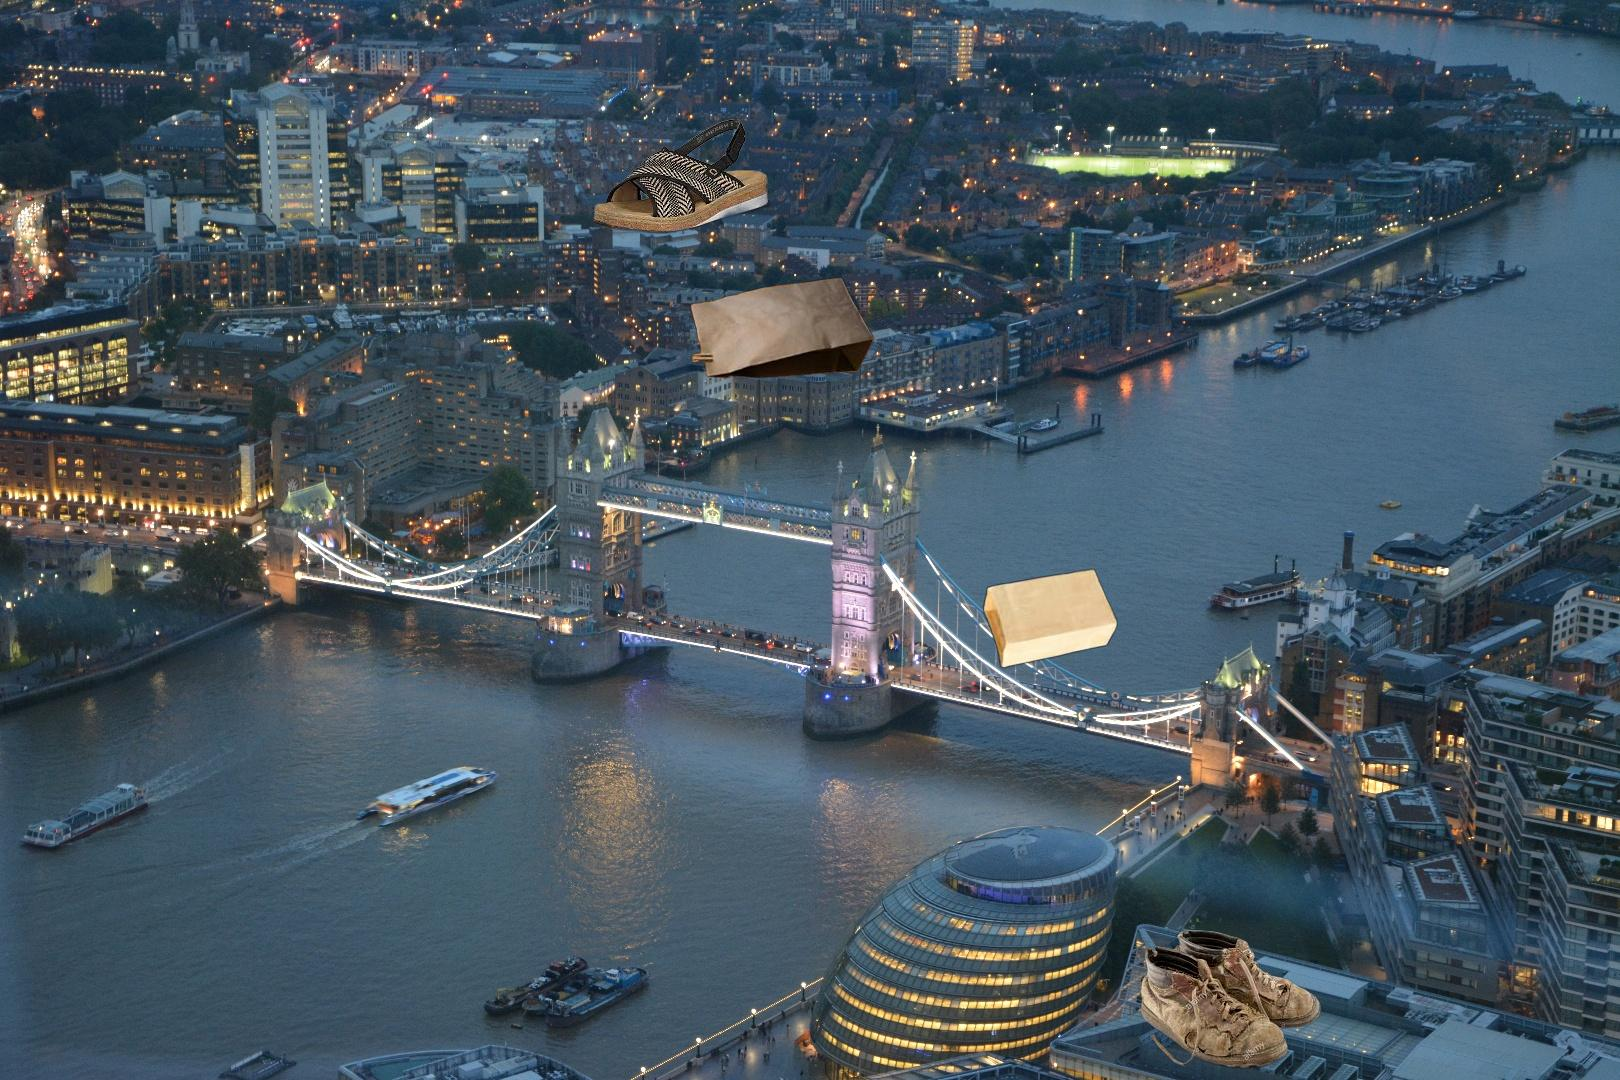glass: (1602, 1038, 1620, 1080)
paper-bag: (687, 276, 876, 378), (982, 567, 1119, 671)
shoes: (1135, 927, 1323, 1072), (589, 116, 771, 242)
